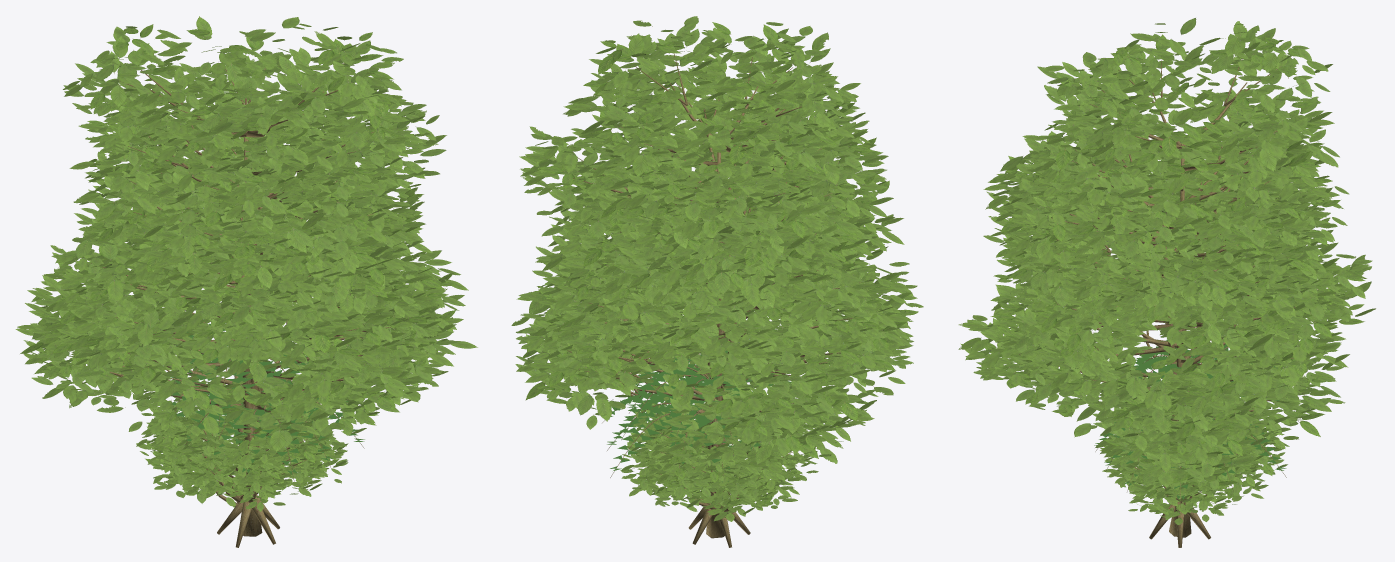
Rendered from tropical-trees-laptop.glb.
3 renders of one model, left to right at view 1: azimuth 30°, elevation 25°; view 2: azimuth 150°, elevation 25°; view 3: azimuth 270°, elevation 25°, orthographic. The views are drawn at different scales.
Visible parts, largest first — view 1: Leaves.001, Leaves.003, Leaves, Leaves.002, Leaves.007, Leaves.006, Branchwork, Leaves.004, Leaves.005, Branchwork.001, Branchwork.002, Branchwork.003; view 2: Leaves.001, Leaves.003, Leaves, Leaves.002, Leaves.007, Leaves.006, Leaves.004, Leaves.005, Branchwork.001, Branchwork, Branchwork.002; view 3: Leaves.001, Leaves.003, Leaves.002, Leaves, Leaves.006, Leaves.007, Branchwork.001, Branchwork, Branchwork.003, Leaves.005, Leaves.004, Branchwork.002.
Part boxes in pixels (x1,y1,x2,y2): Leaves.001: (25, 16, 444, 383); Leaves.003: (15, 76, 453, 424); Leaves: (20, 132, 463, 435); Leaves.002: (87, 163, 477, 451); Leaves.007: (136, 371, 335, 495); Leaves.006: (150, 391, 348, 511); Branchwork: (84, 172, 391, 547); Leaves.004: (177, 376, 364, 474); Leaves.005: (169, 323, 309, 425); Branchwork.001: (91, 63, 374, 491); Branchwork.002: (123, 260, 362, 536); Branchwork.003: (115, 125, 377, 446); Leaves.001: (511, 16, 911, 419); Leaves.003: (516, 68, 923, 455); Leaves: (529, 117, 913, 466); Leaves.002: (515, 159, 913, 473); Leaves.007: (630, 383, 818, 507); Leaves.006: (619, 404, 810, 521); Leaves.004: (607, 381, 760, 482); Leaves.005: (620, 350, 791, 447); Branchwork.001: (573, 53, 860, 446); Branchwork: (599, 156, 840, 547); Branchwork.002: (567, 196, 825, 537); Leaves.001: (986, 18, 1375, 463); Leaves.003: (958, 96, 1365, 463); Leaves.002: (1004, 168, 1345, 490); Leaves: (983, 137, 1349, 475); Leaves.006: (1100, 410, 1287, 525); Leaves.007: (1107, 376, 1289, 508); Branchwork.001: (1056, 59, 1317, 359); Branchwork: (1056, 188, 1293, 547); Branchwork.003: (1019, 149, 1270, 420); Leaves.005: (1122, 340, 1279, 408); Leaves.004: (1094, 416, 1286, 499); Branchwork.002: (1057, 227, 1271, 537).
Size of the model in its own units: 15.38 by 17.96 by 15.01.
Materials: 3 (2 with a texture image).
